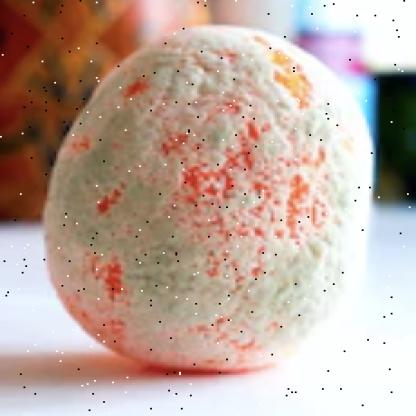rotten: (47, 26, 372, 373)
